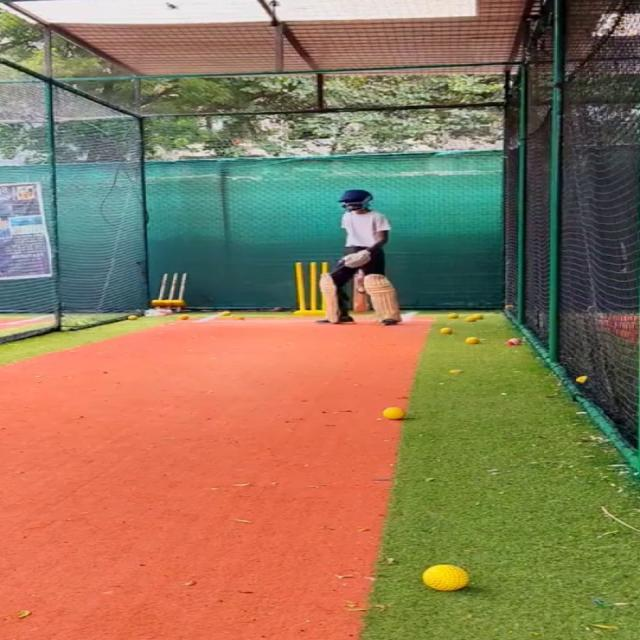ball: (422, 562, 476, 595), (383, 405, 408, 421), (507, 336, 526, 347), (464, 335, 482, 345), (466, 314, 480, 322), (127, 313, 140, 321), (441, 327, 455, 334), (449, 311, 461, 319), (180, 314, 192, 320)
stump: (293, 260, 333, 316)
